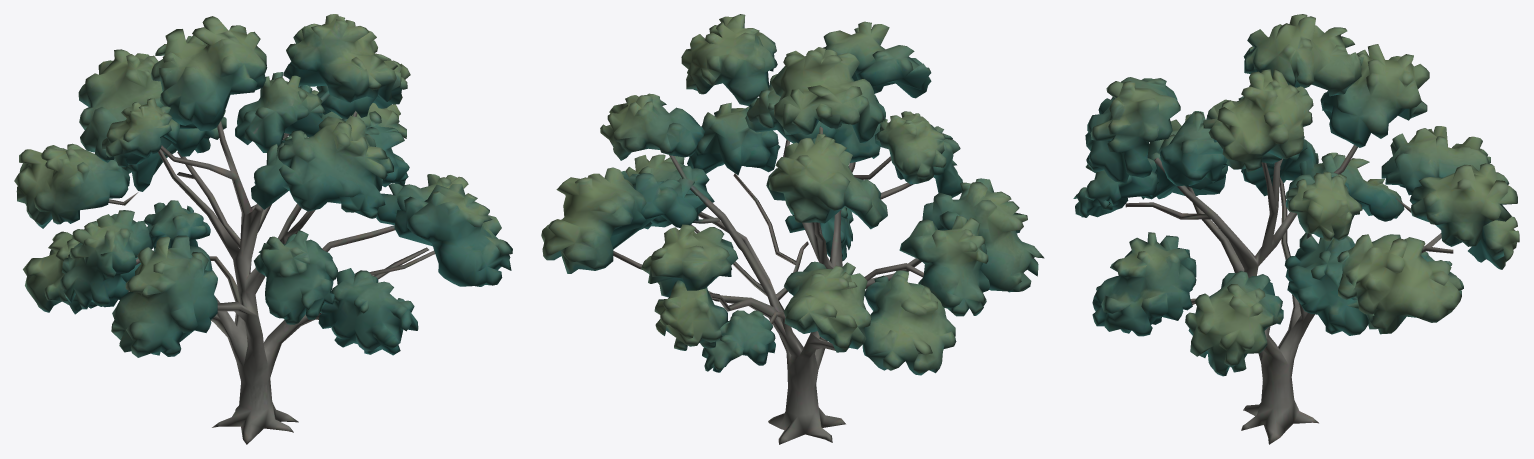
The model's file is painterly_camphor_tree.glb.
3 renders of one model, left to right at view 1: azimuth 30°, elevation 25°; view 2: azimuth 150°, elevation 25°; view 3: azimuth 270°, elevation 25°, orthographic. The views are drawn at different scales.
Visible parts, largest first — view 1: tripo_node_698eefc0-6b28-4fbc-9b57-b1713cac2755; view 2: tripo_node_698eefc0-6b28-4fbc-9b57-b1713cac2755; view 3: tripo_node_698eefc0-6b28-4fbc-9b57-b1713cac2755.
Part boxes in pixels (x1,y1,x2,y2): tripo_node_698eefc0-6b28-4fbc-9b57-b1713cac2755: [14, 14, 512, 444]; tripo_node_698eefc0-6b28-4fbc-9b57-b1713cac2755: [541, 14, 1044, 444]; tripo_node_698eefc0-6b28-4fbc-9b57-b1713cac2755: [1073, 14, 1519, 444].
Bounding box in the file's own units: 0.9863 × 0.9746 × 0.998.
Materials: 1 (1 with a texture image).
